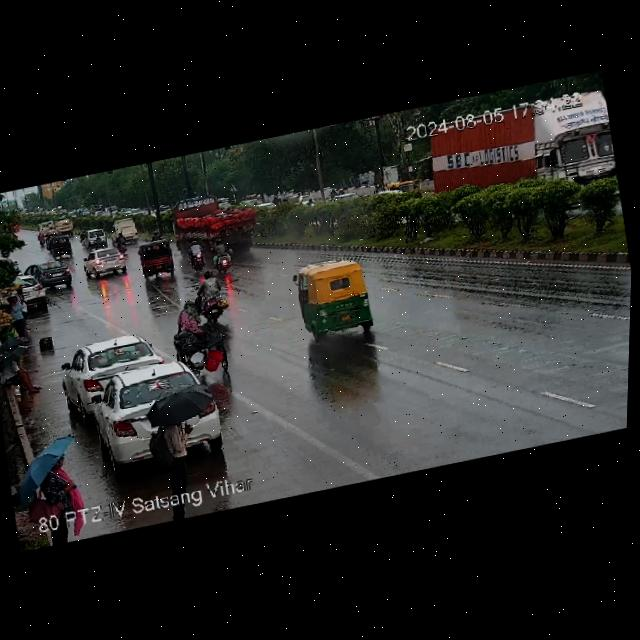car: (282, 246, 389, 346), (83, 359, 207, 441), (57, 328, 169, 410), (169, 292, 234, 383), (547, 118, 618, 189), (24, 255, 77, 294), (133, 236, 177, 279), (81, 245, 129, 282), (47, 234, 74, 259), (120, 214, 141, 241)
motorcycle: (193, 265, 230, 328), (208, 235, 231, 273), (184, 237, 205, 268), (85, 227, 107, 250), (35, 226, 54, 248), (111, 232, 128, 251)
person: (137, 383, 226, 471), (31, 452, 87, 541), (0, 355, 41, 399), (5, 291, 30, 339), (14, 283, 32, 323)
truck: (419, 82, 619, 213), (427, 134, 568, 201), (170, 182, 264, 264)
